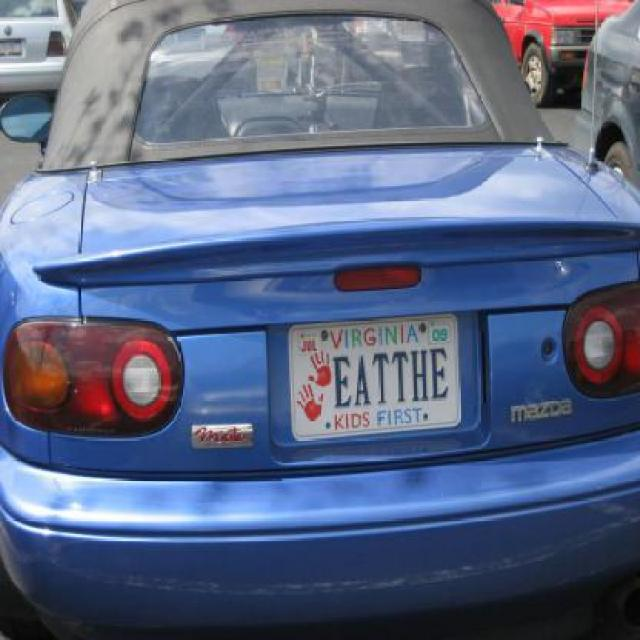License-Plates: (282, 303, 466, 457)
